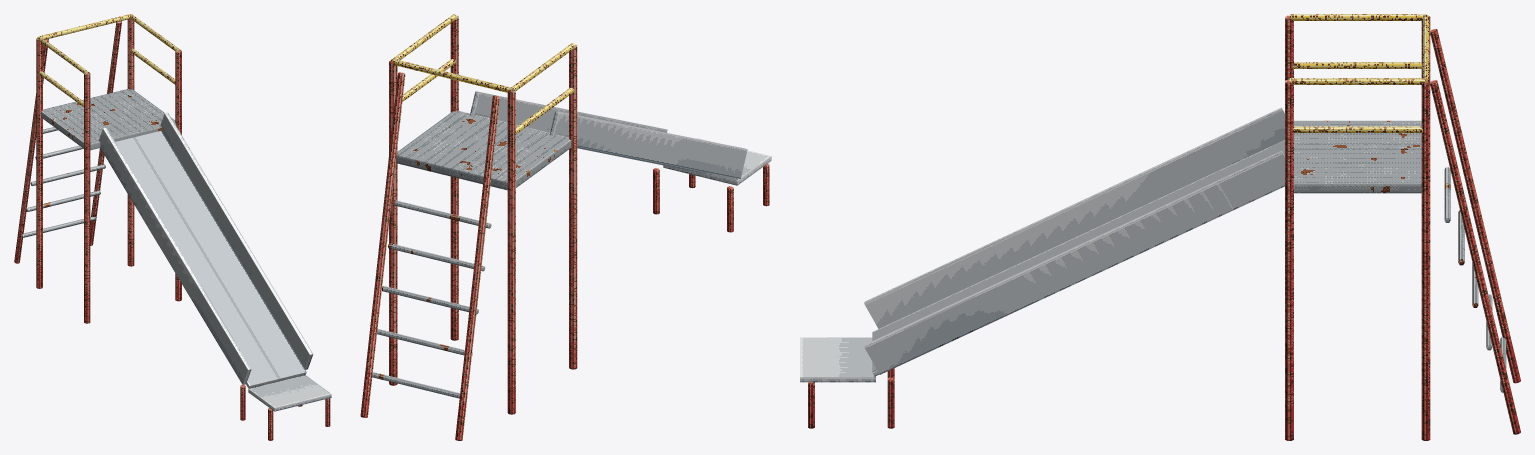
File: slide.glb
The picture shows the model from 3 angles, left to right: view 1: azimuth 30°, elevation 25°; view 2: azimuth 150°, elevation 25°; view 3: azimuth 270°, elevation 25°; orthographic projection. The views are drawn at different scales.
Parts seen in each view (by area): view 1: slide; view 2: slide; view 3: slide.
Boxes of the visible parts, left/top/right/bottom form: slide: left=14, top=14, right=331, bottom=440; slide: left=360, top=14, right=771, bottom=440; slide: left=800, top=14, right=1520, bottom=440.
Bounding box in the file's own units: 0.8461 × 2.1 × 3.8.
1 material, 1 textured.
